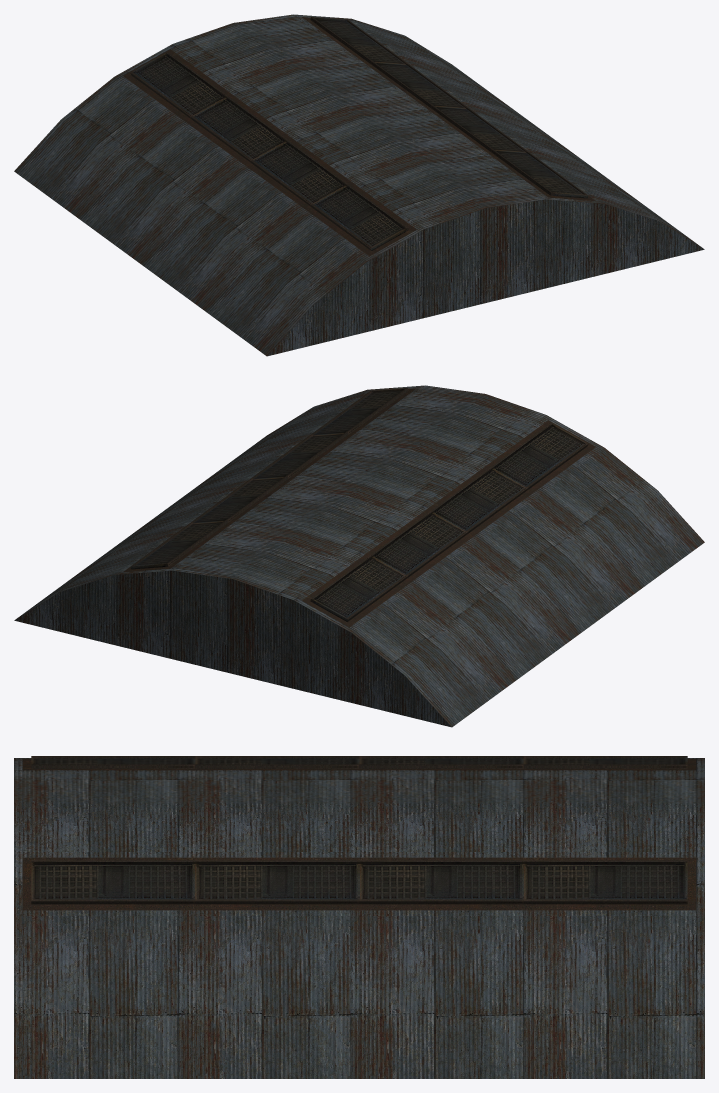
The model's file is warehouse_hs_1_roof_2.glb.
The picture shows the model from 3 angles, top to bottom: view 1: azimuth 30°, elevation 25°; view 2: azimuth 150°, elevation 25°; view 3: azimuth 270°, elevation 25°; orthographic projection. The views are drawn at different scales.
Visible parts, largest first — view 1: warehouse_hs_1_roof_2; view 2: warehouse_hs_1_roof_2; view 3: warehouse_hs_1_roof_2.
Boxes of the visible parts, x1,y1,x2,y2 form: warehouse_hs_1_roof_2: (14,14,704,356); warehouse_hs_1_roof_2: (14,385,704,727); warehouse_hs_1_roof_2: (14,756,704,1078).
Bounding box in the file's own units: 8 × 1.66 × 8.
Materials: 3 (3 with a texture image).
